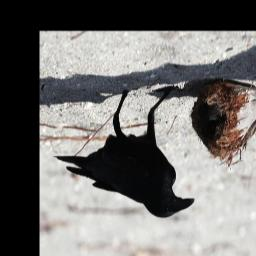Crow: (52, 84, 195, 218)
